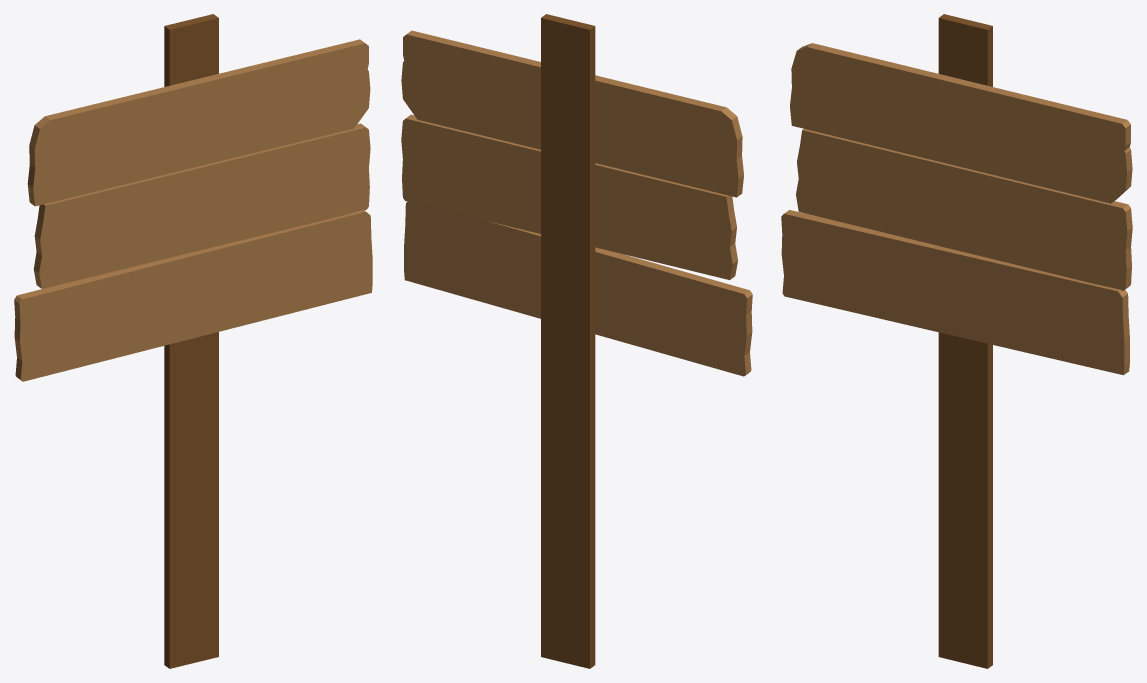
Rendered from Signage.fbx.
The picture shows the model from 3 angles, left to right: view 1: azimuth 30°, elevation 25°; view 2: azimuth 150°, elevation 25°; view 3: azimuth 330°, elevation 25°; orthographic projection.
Visible parts, largest first — view 1: Sign7.001, Sign7.003, Sign7.002, Sign7; view 2: Sign7, Sign7.001, Sign7.003, Sign7.002; view 3: Sign7.001, Sign7.003, Sign7.002, Sign7.
Part boxes in pixels (x1,y1,x2,y2): Sign7.001: (14,210,372,381); Sign7.003: (27,39,370,206); Sign7.002: (33,123,370,288); Sign7: (164,14,218,668); Sign7: (541,14,595,668); Sign7.001: (404,201,752,376); Sign7.003: (401,30,743,197); Sign7.002: (401,114,737,279); Sign7.001: (781,210,1129,375); Sign7.003: (790,43,1132,203); Sign7.002: (796,129,1132,290); Sign7: (938,14,992,668).
Size of the model in its own units: 113 by 198 by 7.88.
